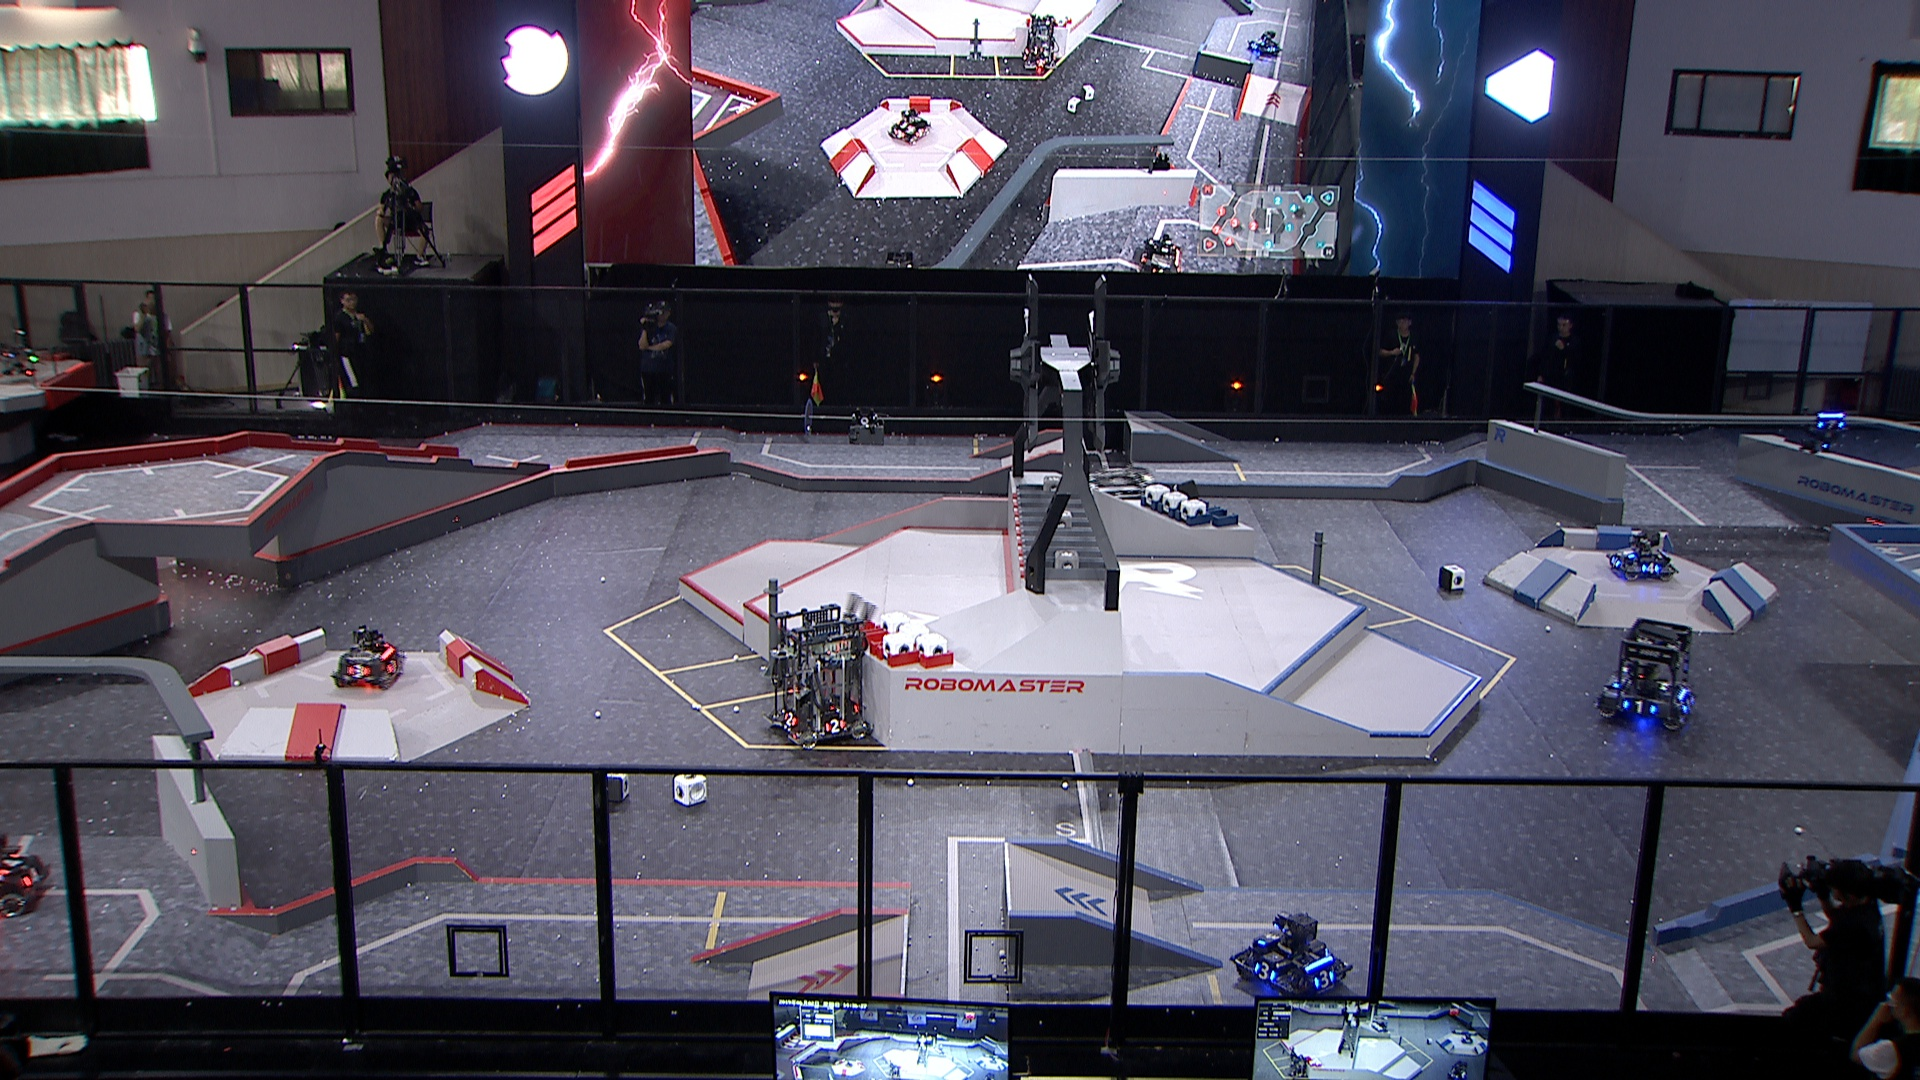armor: (22, 861, 44, 885), (1, 851, 25, 870), (1313, 967, 1335, 988), (1623, 700, 1654, 713), (1255, 963, 1275, 982), (344, 662, 368, 678), (1610, 669, 1629, 688), (822, 719, 847, 733), (1815, 417, 1844, 429), (1261, 931, 1282, 945), (1679, 695, 1695, 713), (385, 655, 398, 674), (1642, 562, 1659, 575), (782, 712, 795, 727), (1607, 555, 1623, 567), (1621, 547, 1633, 559)
car: (761, 603, 874, 746), (1069, 458, 1193, 564), (1593, 617, 1698, 732), (1232, 913, 1353, 1000), (330, 624, 406, 688), (1604, 524, 1675, 585)
ignore: (1017, 16, 1060, 76), (1131, 229, 1183, 273), (887, 109, 934, 142), (1245, 29, 1282, 62), (884, 244, 920, 272), (1286, 1050, 1313, 1079), (1444, 1058, 1470, 1077), (1457, 1030, 1476, 1044)
watcher: (1797, 400, 1849, 456)
